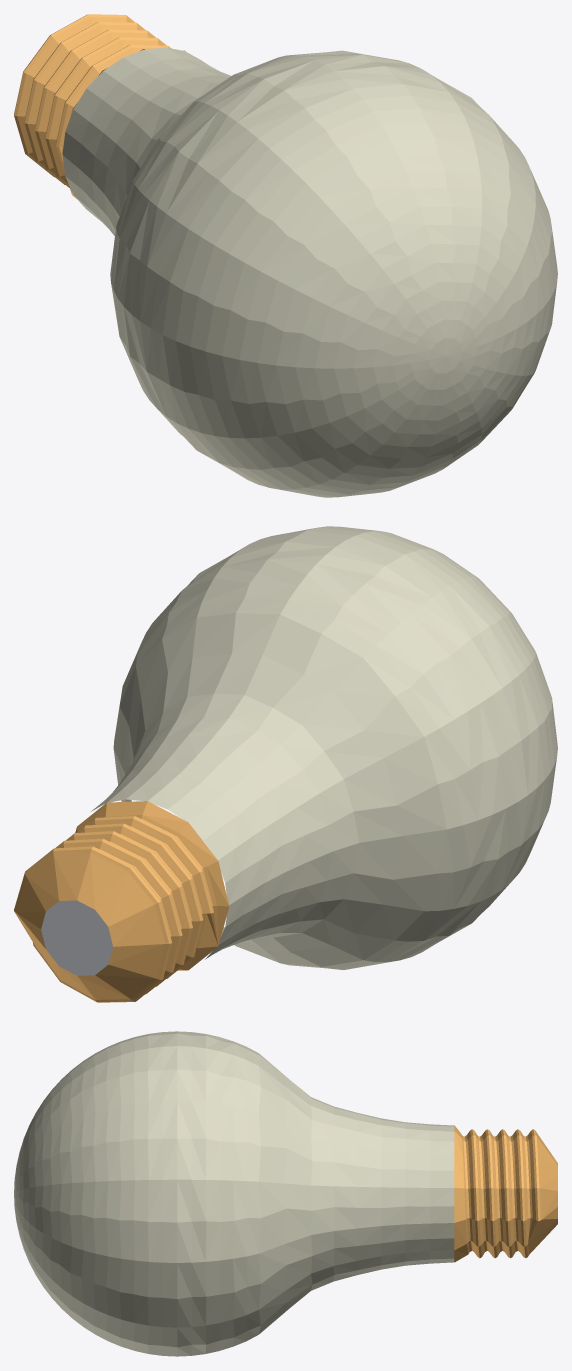
Rendered from LITEBLB2.glb.
3 renders of one model, top to bottom at view 1: azimuth 30°, elevation 25°; view 2: azimuth 150°, elevation 25°; view 3: azimuth 270°, elevation 25°, orthographic. The views are drawn at different scales.
Parts seen in each view (by area): view 1: _0; view 2: _0; view 3: _0.
Boxes of the visible parts, <box> form: _0: <box>14,14,557,497</box>; _0: <box>14,526,557,1002</box>; _0: <box>14,1031,557,1356</box>.
Bounding box in the file's own units: 3.33 × 3.33 × 5.55.
